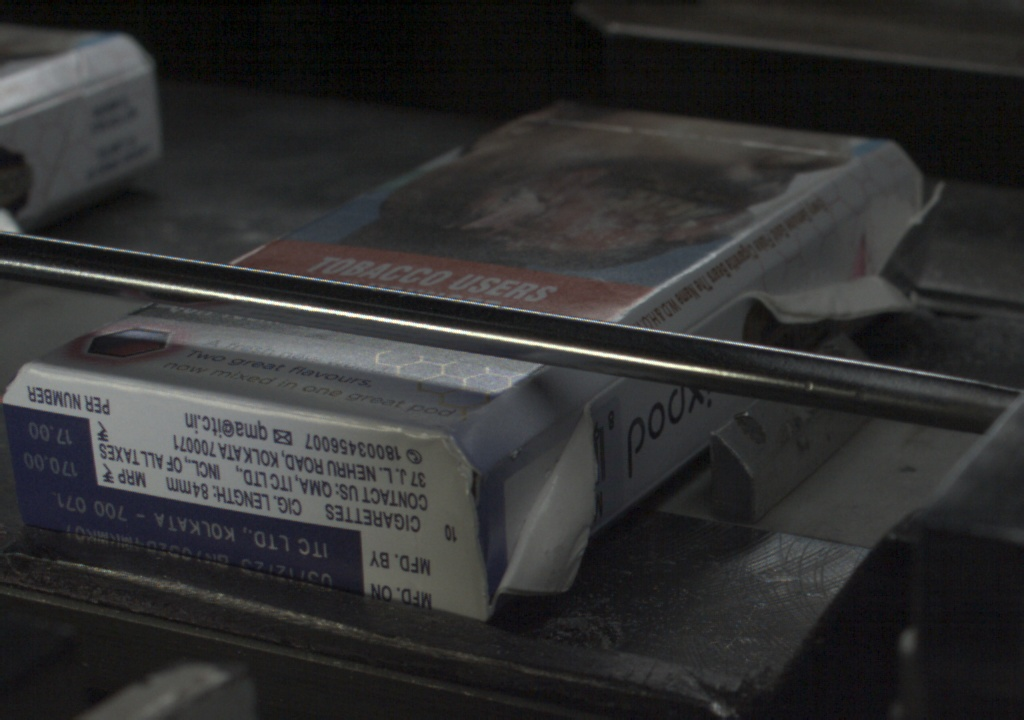g_label: (10, 482, 365, 590)
ng_bottom: (394, 426, 490, 552)
ng_lmiter: (498, 410, 601, 598), (749, 267, 899, 324)
ng_miter: (880, 177, 943, 237)
price: (9, 409, 93, 482)
